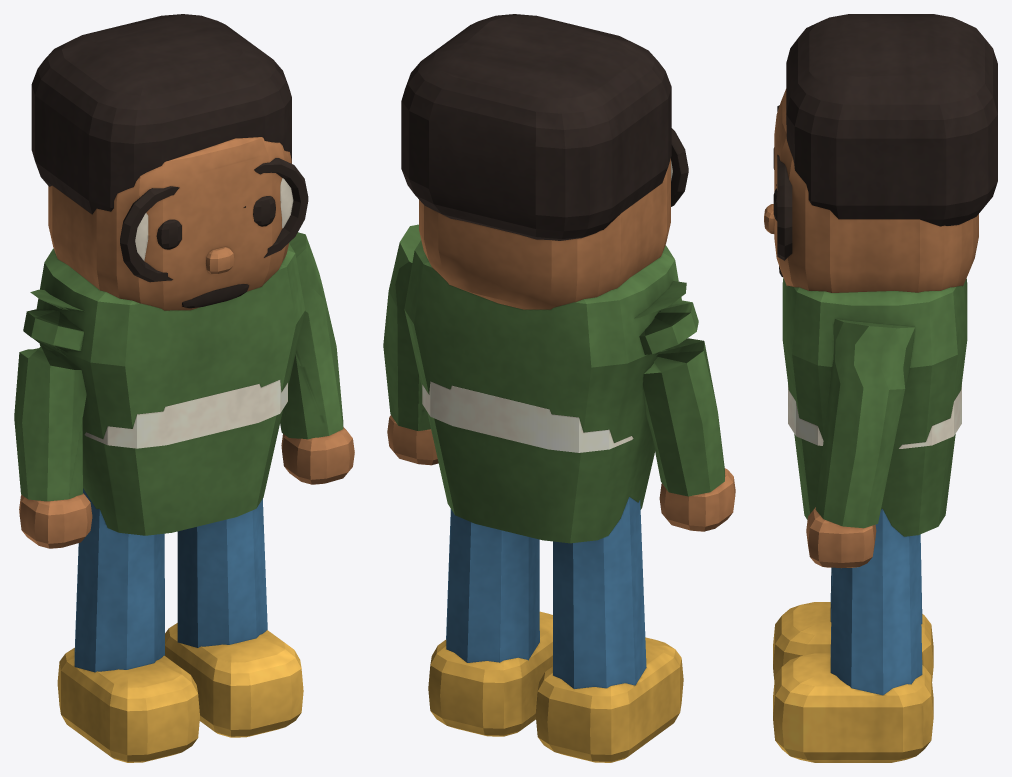
The model's file is hybrid_chuck.glb.
3 renders of one model, left to right at view 1: azimuth 30°, elevation 25°; view 2: azimuth 150°, elevation 25°; view 3: azimuth 270°, elevation 25°, orthographic. The views are drawn at different scales.
Visible parts, largest first — view 1: Chuck; view 2: Chuck; view 3: Chuck.
Part boxes in pixels (x1,y1,x2,y2): Chuck: (14,14,354,762); Chuck: (383,14,735,762); Chuck: (764,14,997,762).
Size of the model in its own units: 0.674 by 1.35 by 0.4193.
1 material, 1 textured.
